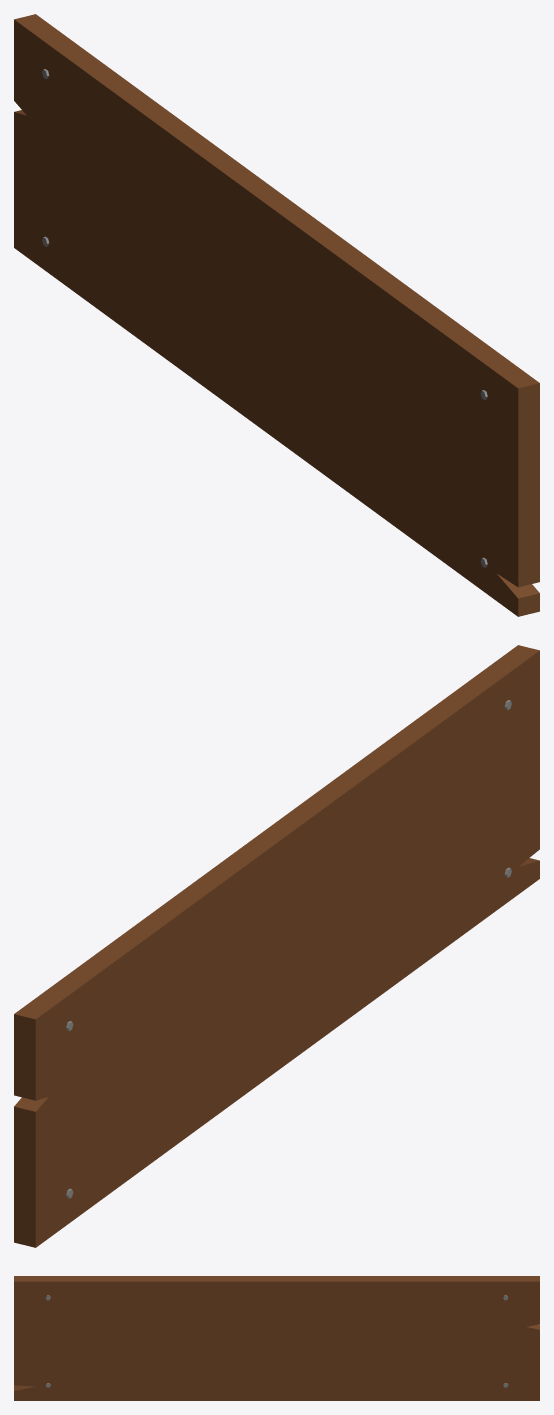
Rendered from Tablon.fbx.
3 views of the same model, one above another, from view 1: azimuth 30°, elevation 25°; view 2: azimuth 150°, elevation 25°; view 3: azimuth 270°, elevation 25° (orthographic). The views are drawn at different scales.
Parts seen in each view (by area): view 1: Cube; view 2: Cube; view 3: Cube.
Part boxes in pixels (x1,y1,x2,y2): Cube: (14,14,539,616); Cube: (14,645,539,1247); Cube: (14,1276,539,1400).
Bounding box in the file's own units: 6 × 50 × 200.
